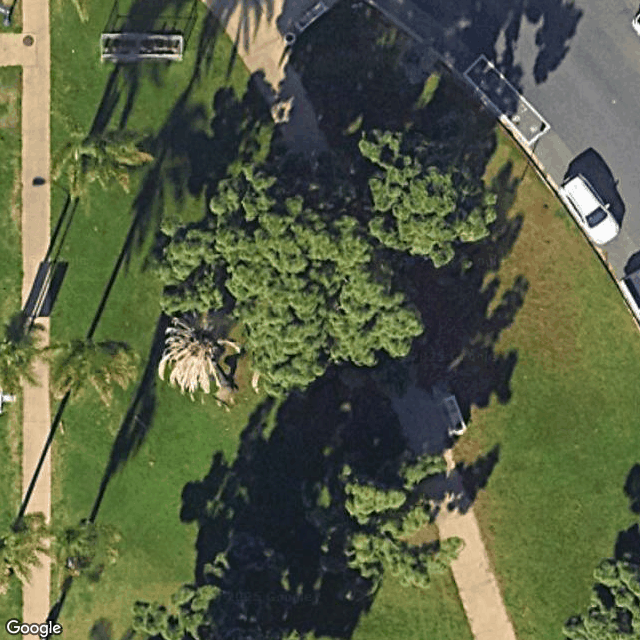palm: (50, 114, 155, 217), (157, 307, 250, 406), (45, 332, 144, 411), (52, 515, 137, 595)
